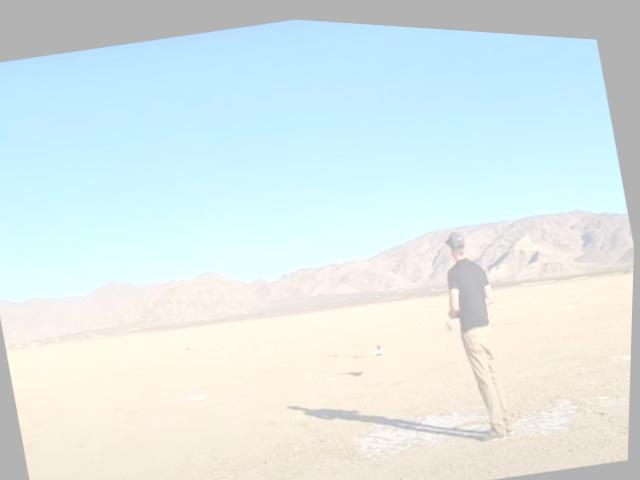iha: (353, 333, 390, 359)
